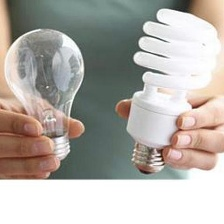light_bulb: (121, 5, 224, 178), (0, 24, 88, 170)
